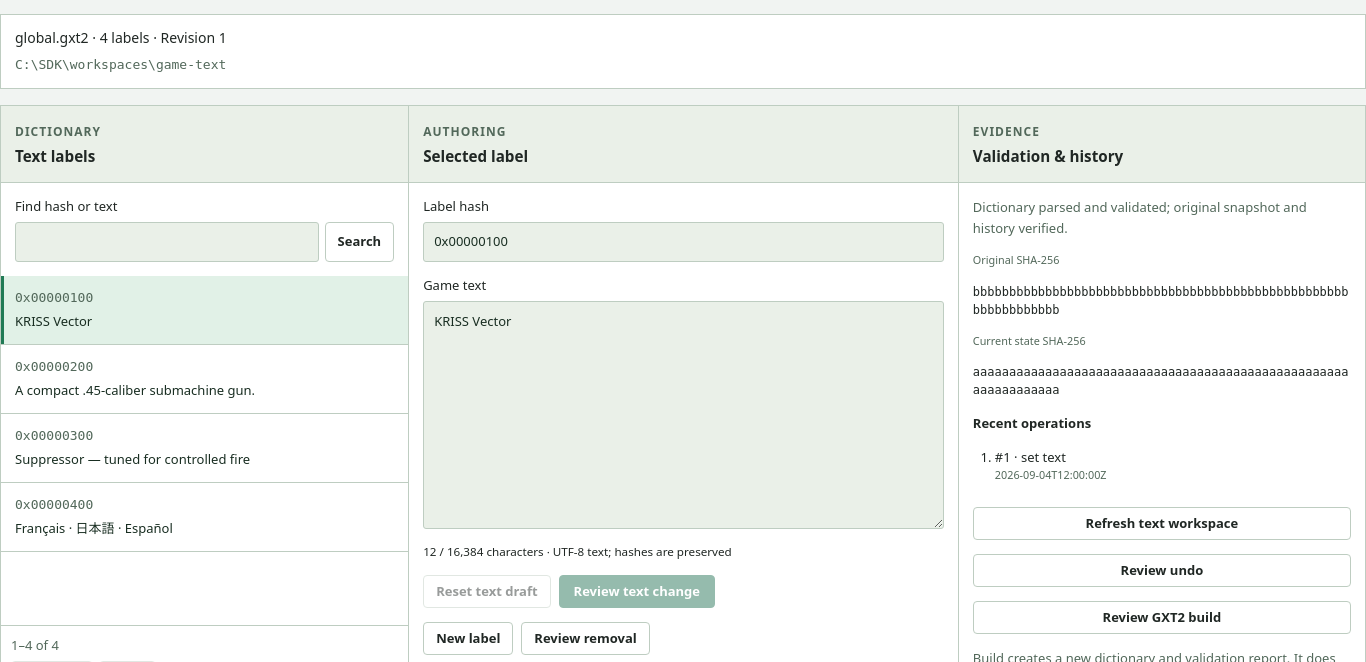
Scenario: adds and removes labels through separate explicit reviews
Earlier steps of the test are not shown.
Later steps or results of the test are not shown.
Expected: the text box showing "KRISS Vector" is shown, [423,301,944,529]
Click the button "New label" at (468, 638), box [423,622,513,655]
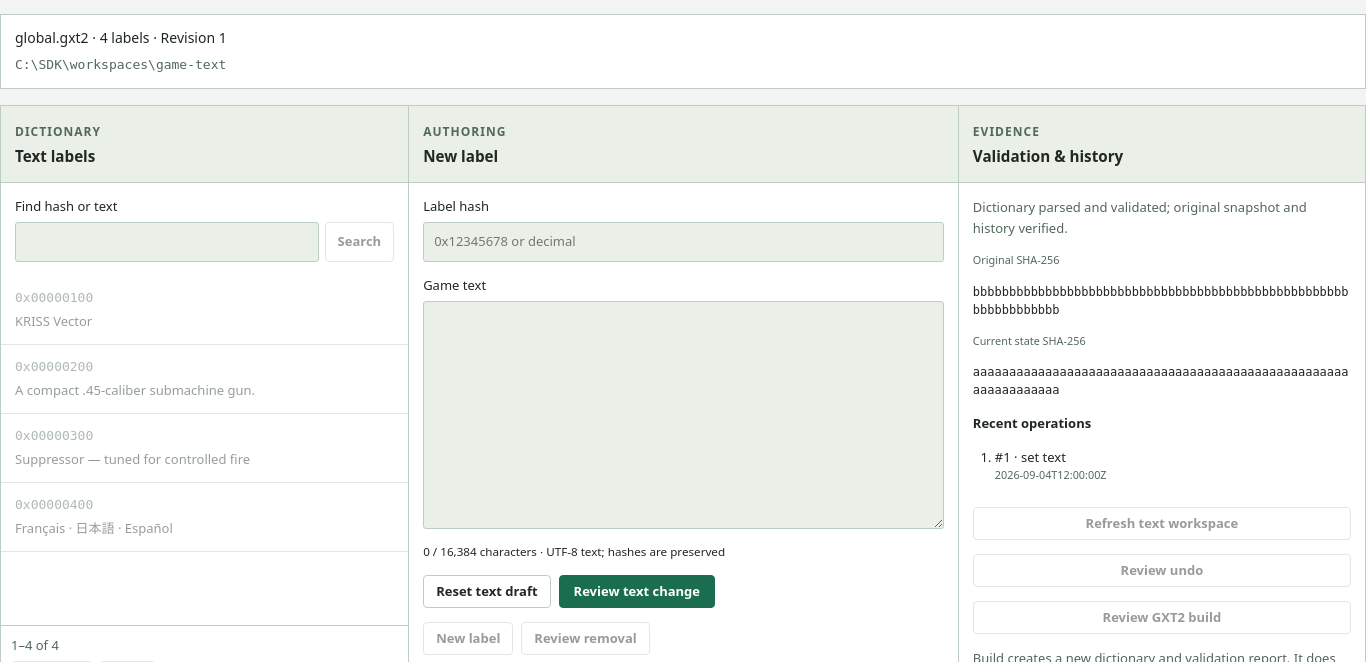
Type "0x500" into the field labelled "Label hash" at (684, 242), box [423,222,944,262]
Type "New label text" into the text box labelled "Game text" at (684, 415), box [423,301,944,529]
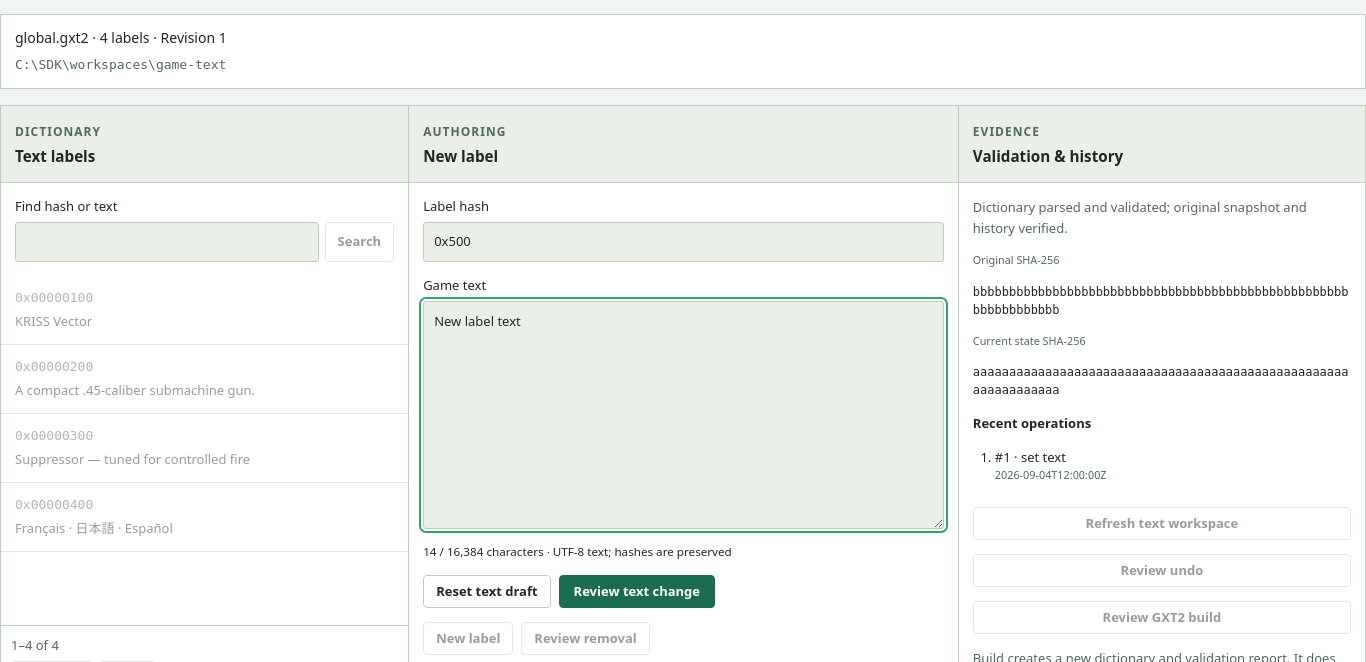
Click the button "Review text change" at (637, 591), box [559,575,715,608]
(page scrolled)
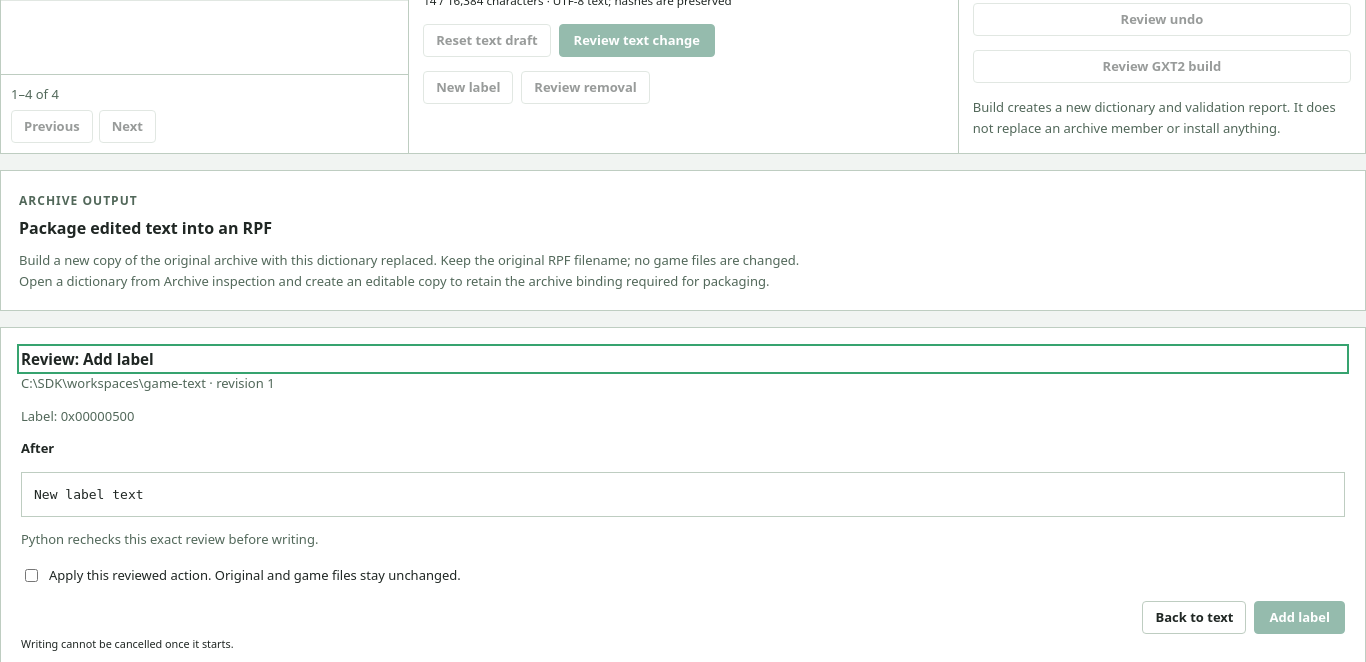
Expected: the heading "Review: Add label" is shown, [21,349,154,369]
Click the checkbox at (32, 576), box [25,569,38,582]
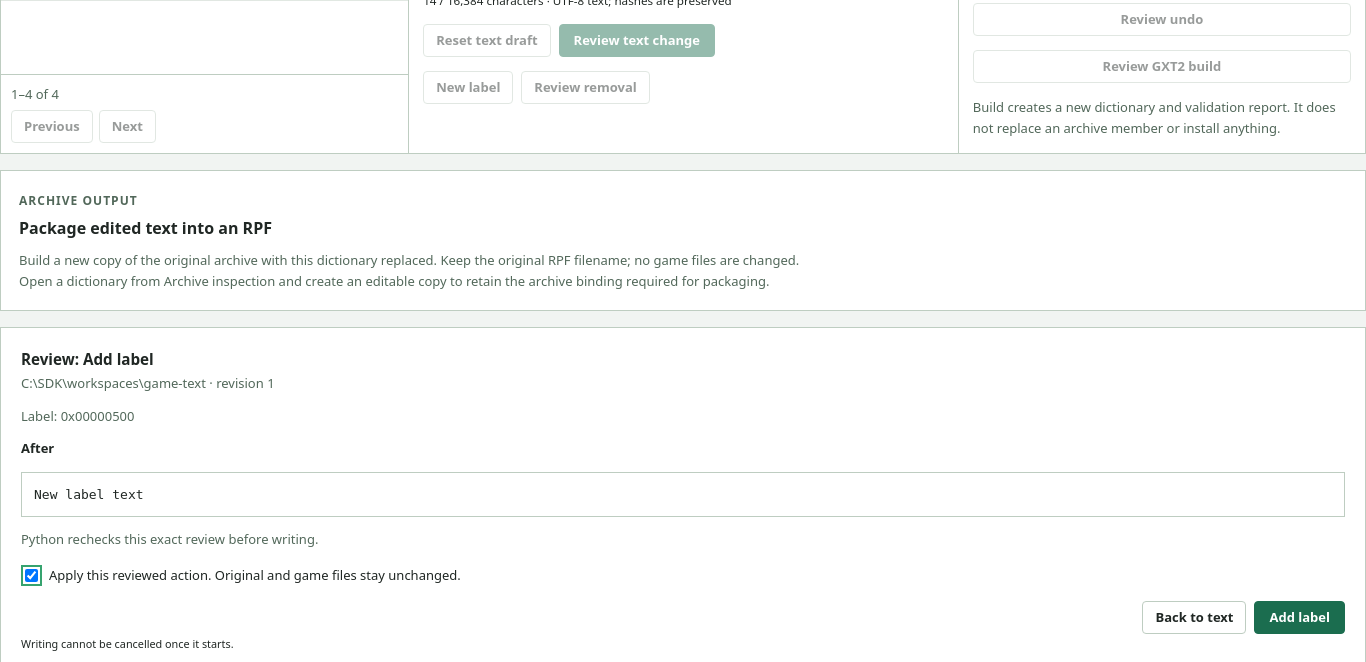
Click the button "Add label" at (1300, 618), box [1254,602,1345,634]
(page scrolled)
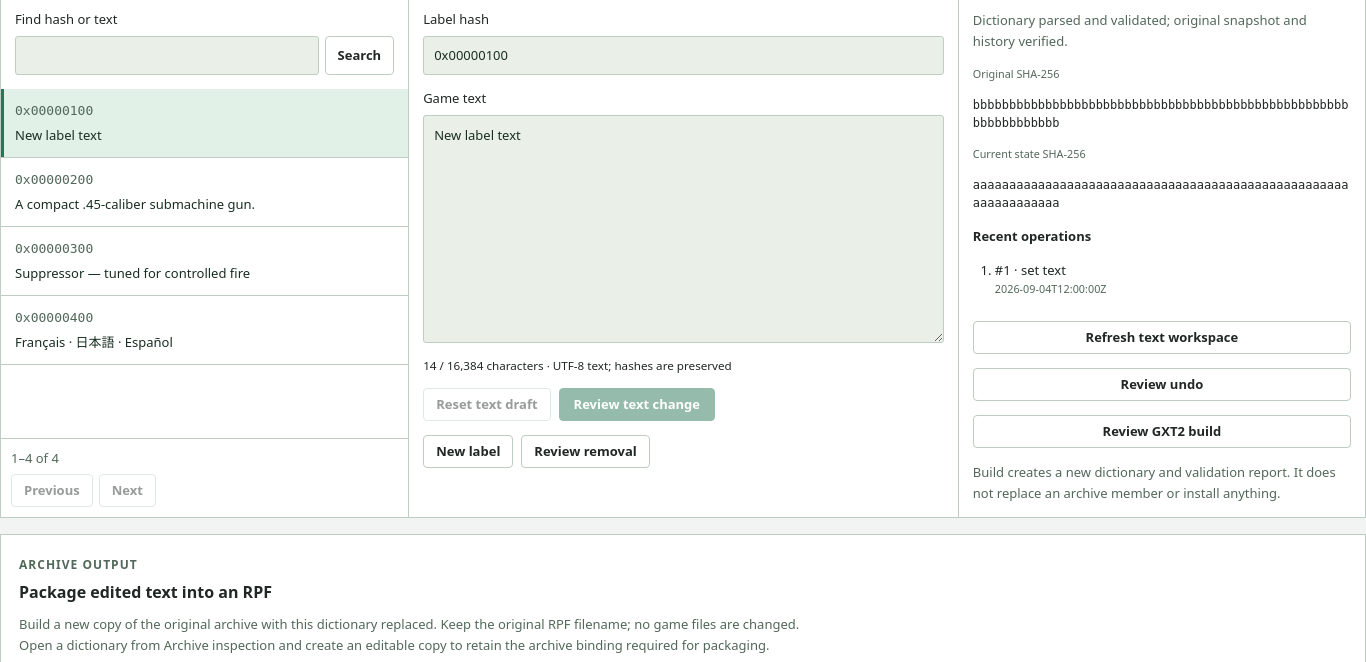
Click the button "Review removal" at (586, 452), box [521,435,650,468]
(page scrolled)
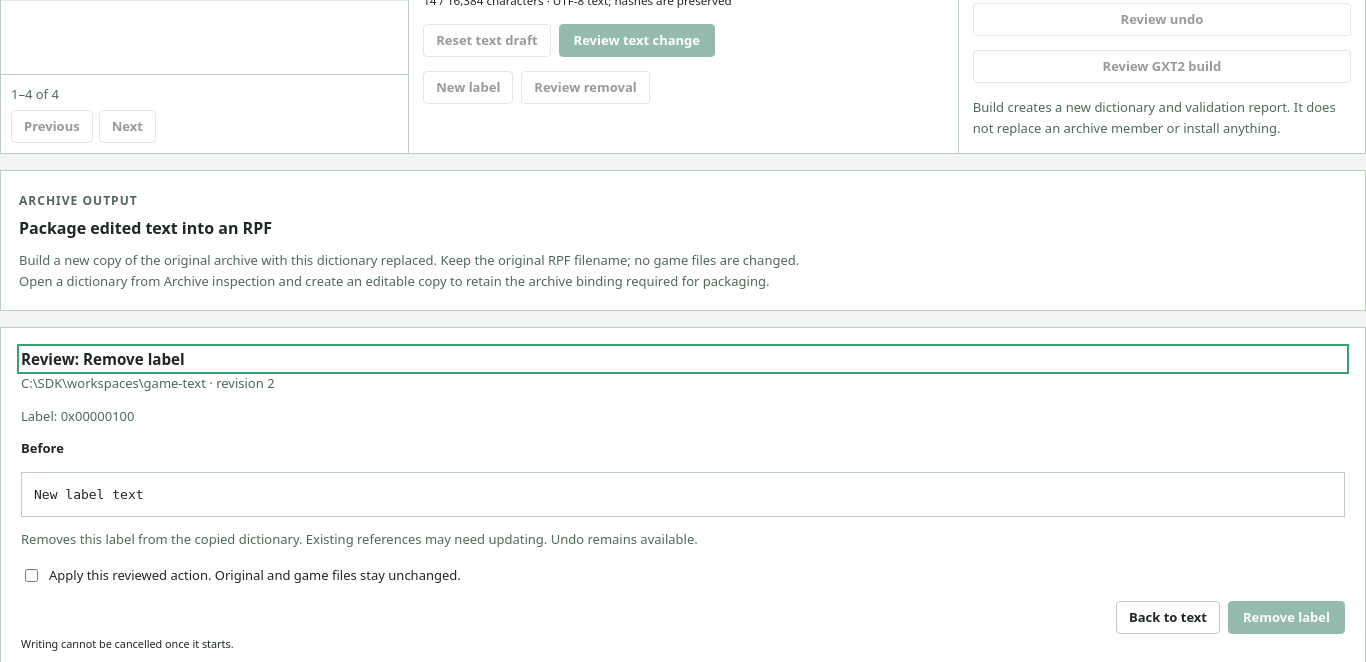
Expected: the heading "Review: Remove label" is shown, [21,349,185,369]
Expected: the text "Existing references may need updating" is shown, [21,530,698,548]
Expected: the checkbox is not checked, [25,569,38,582]
